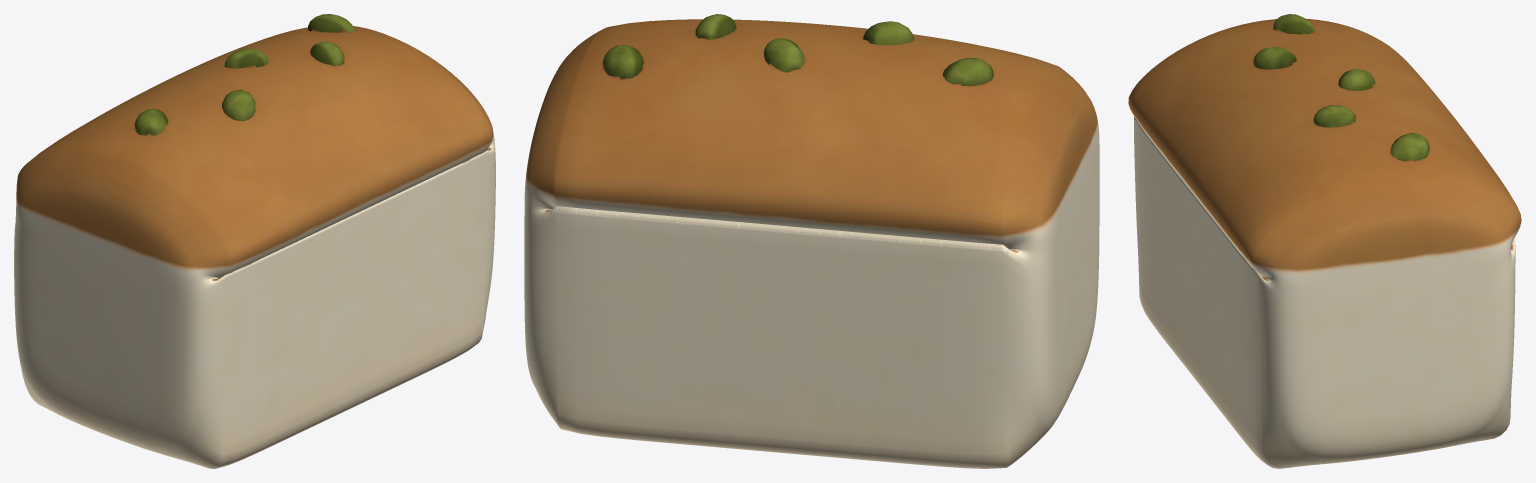
Rendered from loaf--olive-brine.glb.
The picture shows the model from 3 angles, left to right: view 1: azimuth 30°, elevation 25°; view 2: azimuth 150°, elevation 25°; view 3: azimuth 270°, elevation 25°; orthographic projection. The views are drawn at different scales.
Parts seen in each view (by area): view 1: loaf_olive-brine; view 2: loaf_olive-brine; view 3: loaf_olive-brine.
Part boxes in pixels (<box>): loaf_olive-brine: <box>14,14,495,468</box>; loaf_olive-brine: <box>524,14,1099,468</box>; loaf_olive-brine: <box>1128,14,1521,468</box>.
Size of the model in its own units: 1.09 by 0.745 by 0.8491.
1 material, 1 textured.
